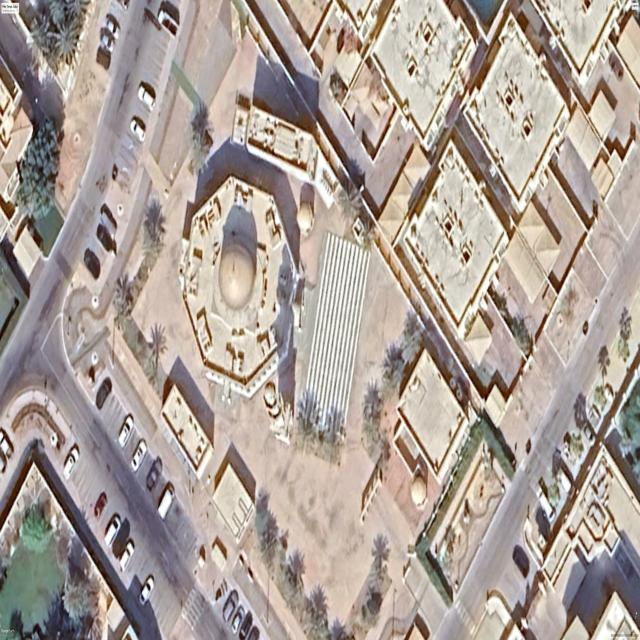mosque: (179, 176, 298, 397)
